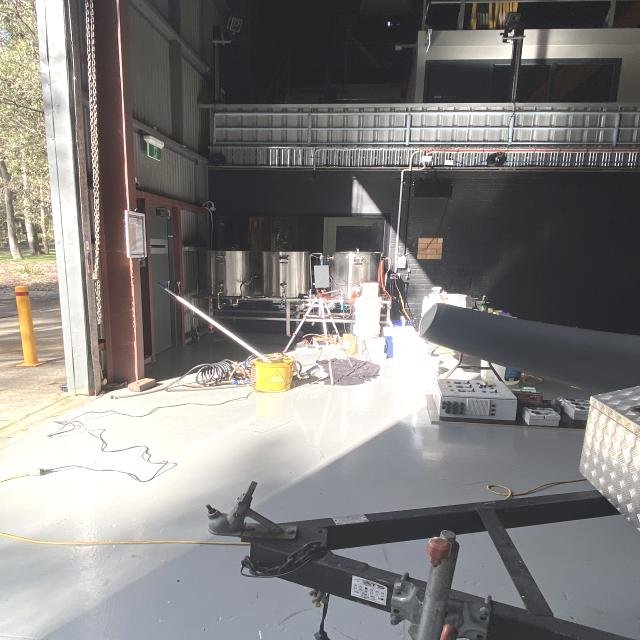matrix: (313, 264, 332, 290)
